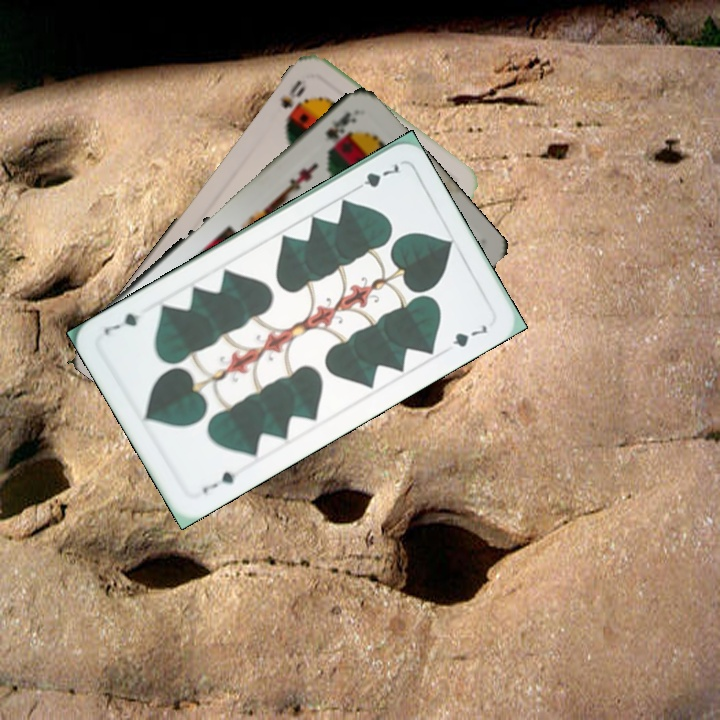G7: (348, 159, 402, 195), (198, 467, 239, 497)
SK: (321, 107, 360, 155)
SO: (276, 76, 308, 129)
